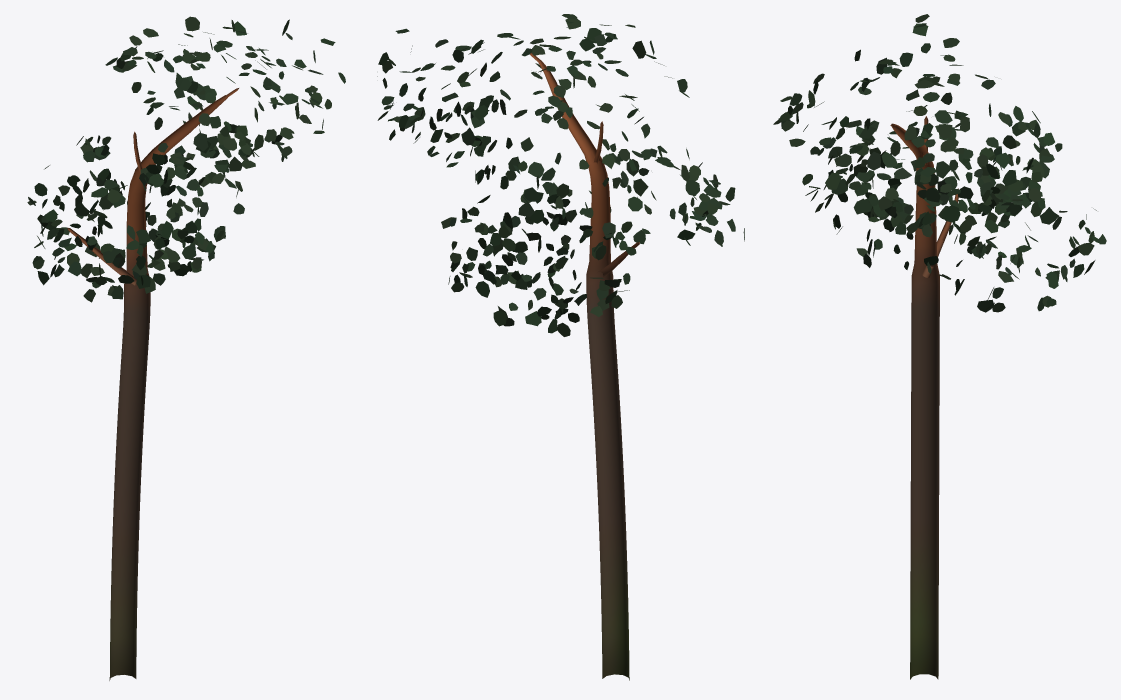
File: SM_TreeFar_pine_0.glb
3 renders of one model, left to right at view 1: azimuth 30°, elevation 25°; view 2: azimuth 150°, elevation 25°; view 3: azimuth 270°, elevation 25°, orthographic. The views are drawn at different scales.
Parts seen in each view (by area): view 1: SM_TreeFar_pine_0; view 2: SM_TreeFar_pine_0; view 3: SM_TreeFar_pine_0.
Boxes of the visible parts, left/top/right/bottom form: SM_TreeFar_pine_0: left=27, top=16, right=345, bottom=680; SM_TreeFar_pine_0: left=377, top=14, right=744, bottom=680; SM_TreeFar_pine_0: left=773, top=14, right=1106, bottom=679.
Bounding box in the file's own units: 9.73 × 18.03 × 8.13.
